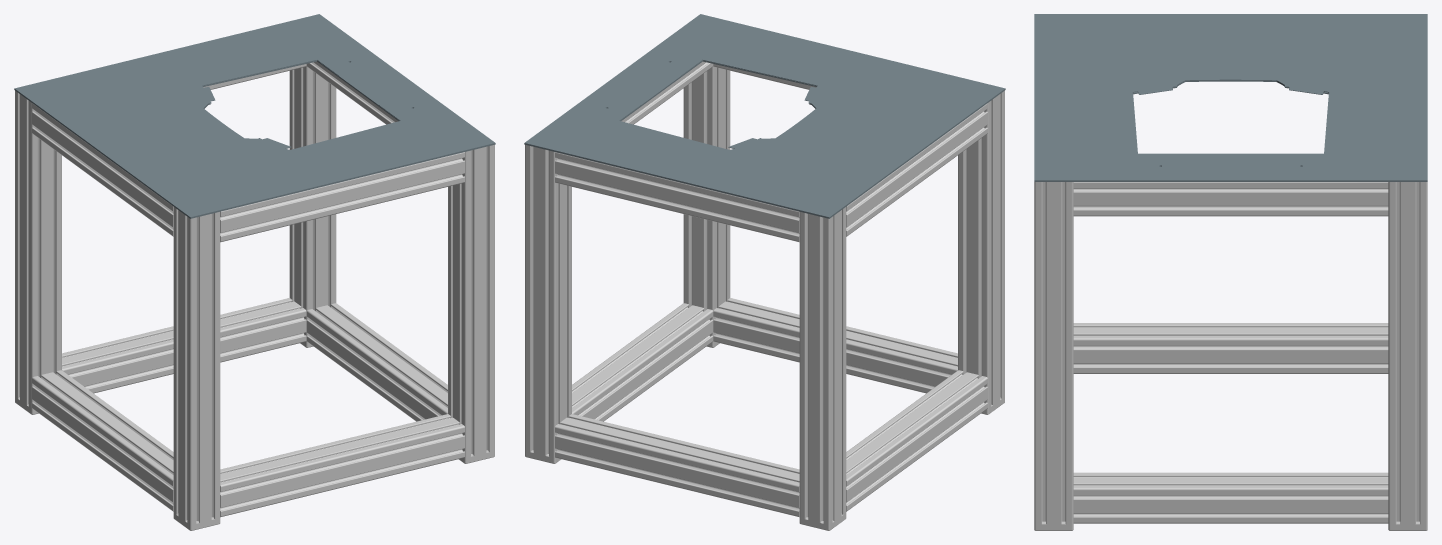
The model's file is MODUL4R_YumiWheeledSupport_noWheels.dae.
3 views of the same model, side by side, from view 1: azimuth 30°, elevation 25°; view 2: azimuth 150°, elevation 25°; view 3: azimuth 270°, elevation 25° (orthographic). The views are drawn at different scales.
Visible parts, largest first — view 1: MODUL4R_Yumi_Support, MODUL4R_Yumi_Support_Top; view 2: MODUL4R_Yumi_Support, MODUL4R_Yumi_Support_Top; view 3: MODUL4R_Yumi_Support, MODUL4R_Yumi_Support_Top.
Part boxes in pixels (x1,y1,x2,y2): MODUL4R_Yumi_Support: (15,61,494,530); MODUL4R_Yumi_Support_Top: (14,14,495,218); MODUL4R_Yumi_Support: (525,61,1004,530); MODUL4R_Yumi_Support_Top: (524,14,1005,218); MODUL4R_Yumi_Support: (1034,182,1427,530); MODUL4R_Yumi_Support_Top: (1034,14,1427,181).
Size of the model in its own units: 0.8 by 0.8 by 0.7875.
